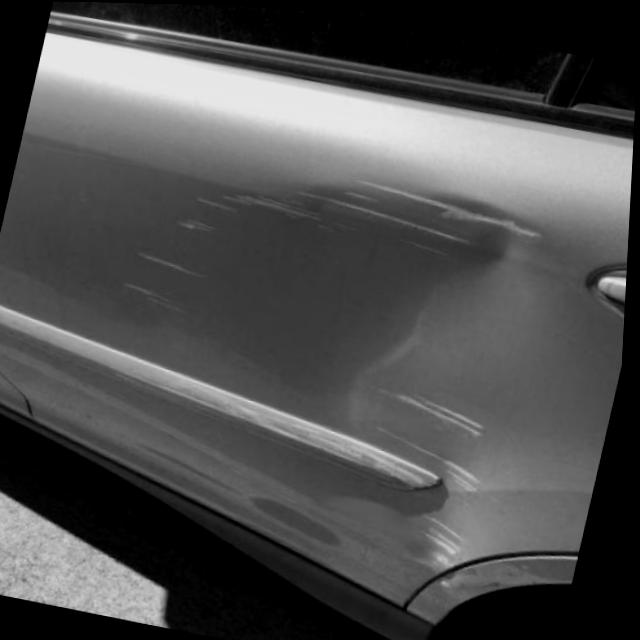Scratch: (53, 335, 445, 497), (353, 176, 547, 239), (303, 189, 470, 242), (394, 430, 485, 491), (385, 390, 486, 440), (220, 189, 328, 223), (425, 515, 467, 585), (134, 249, 209, 282), (117, 282, 182, 313), (399, 237, 453, 258), (195, 195, 235, 212), (342, 188, 379, 204), (182, 215, 216, 231)
